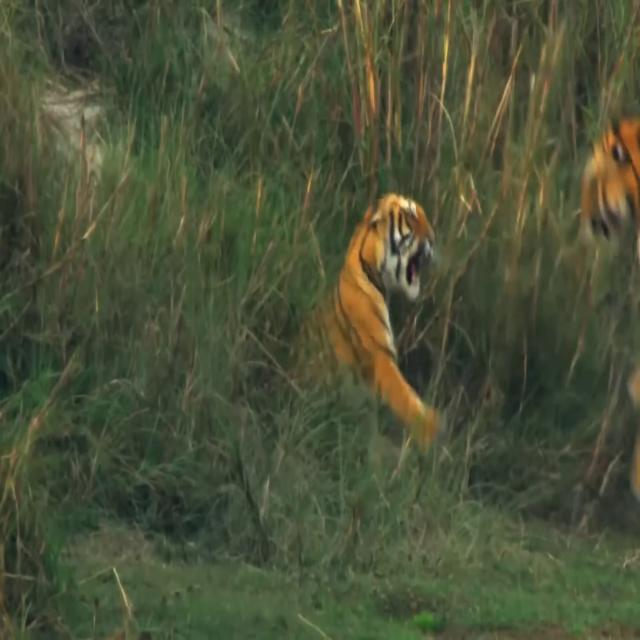tiger: (290, 192, 440, 450)
